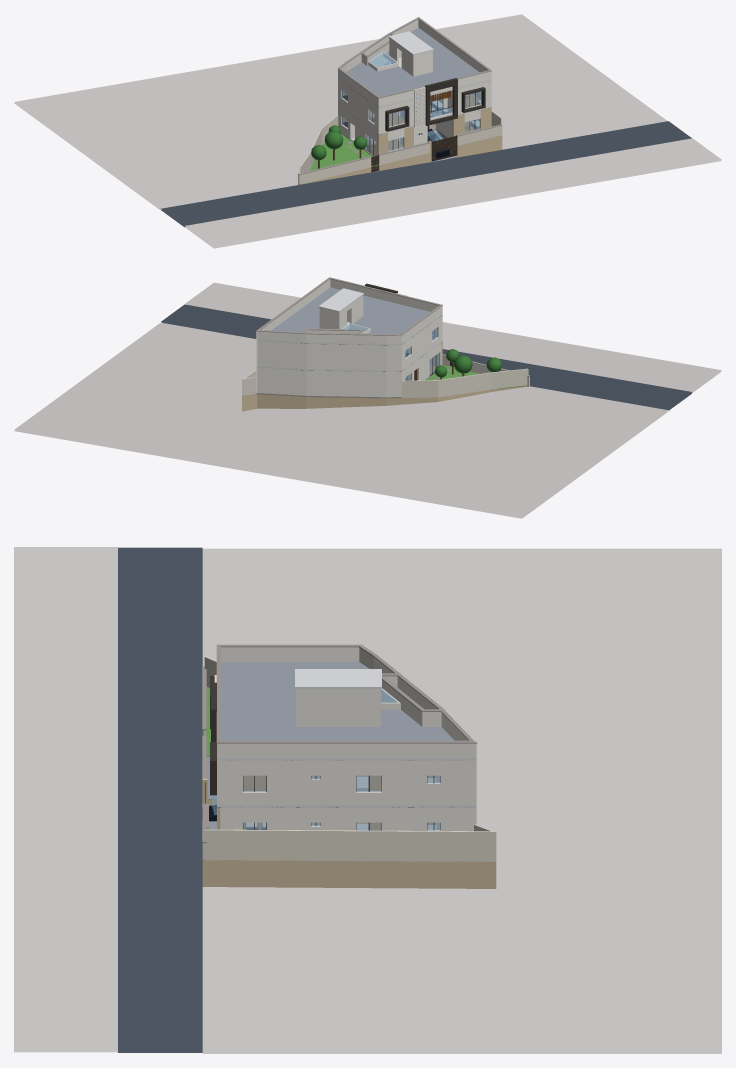
The picture shows the model from 3 angles, top to bottom: view 1: azimuth 30°, elevation 25°; view 2: azimuth 150°, elevation 25°; view 3: azimuth 270°, elevation 25°; orthographic projection. The views are drawn at different scales.
Visible parts, largest first — view 1: ground_n, ground_s, road, RF_terrace, RF_parapet, RF_mumty, RF_parapet_coping, lawn, front_w_wall, RF_mumty_roof, SF_walls.010, front_m_wall (+4 smaller); view 2: ground_n, ground_s, road, SF_walls, walls.009, RF_parapet, RF_terrace, fill, boundary, RF_parapet_coping, RF_mumty, RF_mumty_roof (+1 smaller); view 3: ground_n, ground_s, road, boundary.001, RF_terrace, RF_parapet, fill, RF_mumty, RF_parapet_coping, SF_walls.003, SF_walls.001, RF_mumty_roof (+7 smaller).
Boxes of the visible parts, x1,y1,x2,y2 form: ground_n: (14, 14, 667, 210); ground_s: (185, 138, 721, 248); road: (161, 121, 691, 227); RF_terrace: (346, 27, 479, 96); RF_parapet: (338, 19, 491, 106); RF_mumty: (389, 38, 432, 76); RF_parapet_coping: (337, 17, 491, 98); lawn: (299, 133, 379, 184); front_w_wall: (298, 158, 371, 184); RF_mumty_roof: (388, 31, 433, 55); SF_walls.010: (348, 86, 369, 125); front_m_wall: (379, 143, 429, 165); ground_n: (14, 322, 668, 518); ground_s: (185, 282, 721, 392); road: (161, 304, 692, 410); SF_walls: (256, 341, 405, 370); walls.009: (256, 367, 405, 397); RF_parapet: (256, 279, 442, 343); RF_terrace: (257, 287, 429, 343); fill: (242, 386, 527, 411); boundary: (402, 368, 528, 397); RF_parapet_coping: (256, 277, 442, 335); RF_mumty: (319, 295, 363, 328); RF_mumty_roof: (318, 288, 363, 312); ground_n: (202, 548, 721, 1053); ground_s: (14, 547, 117, 1052); road: (118, 547, 202, 1052); boundary.001: (204, 824, 496, 861); RF_terrace: (220, 662, 454, 740); RF_parapet: (217, 647, 476, 758); fill: (206, 799, 496, 888); RF_mumty: (296, 689, 380, 726); RF_parapet_coping: (216, 644, 477, 743); SF_walls.003: (266, 760, 311, 805); SF_walls.001: (382, 760, 426, 805); RF_mumty_roof: (295, 669, 381, 688).
Bounding box in the file's own units: 67.06 × 13.31 × 45.72.
